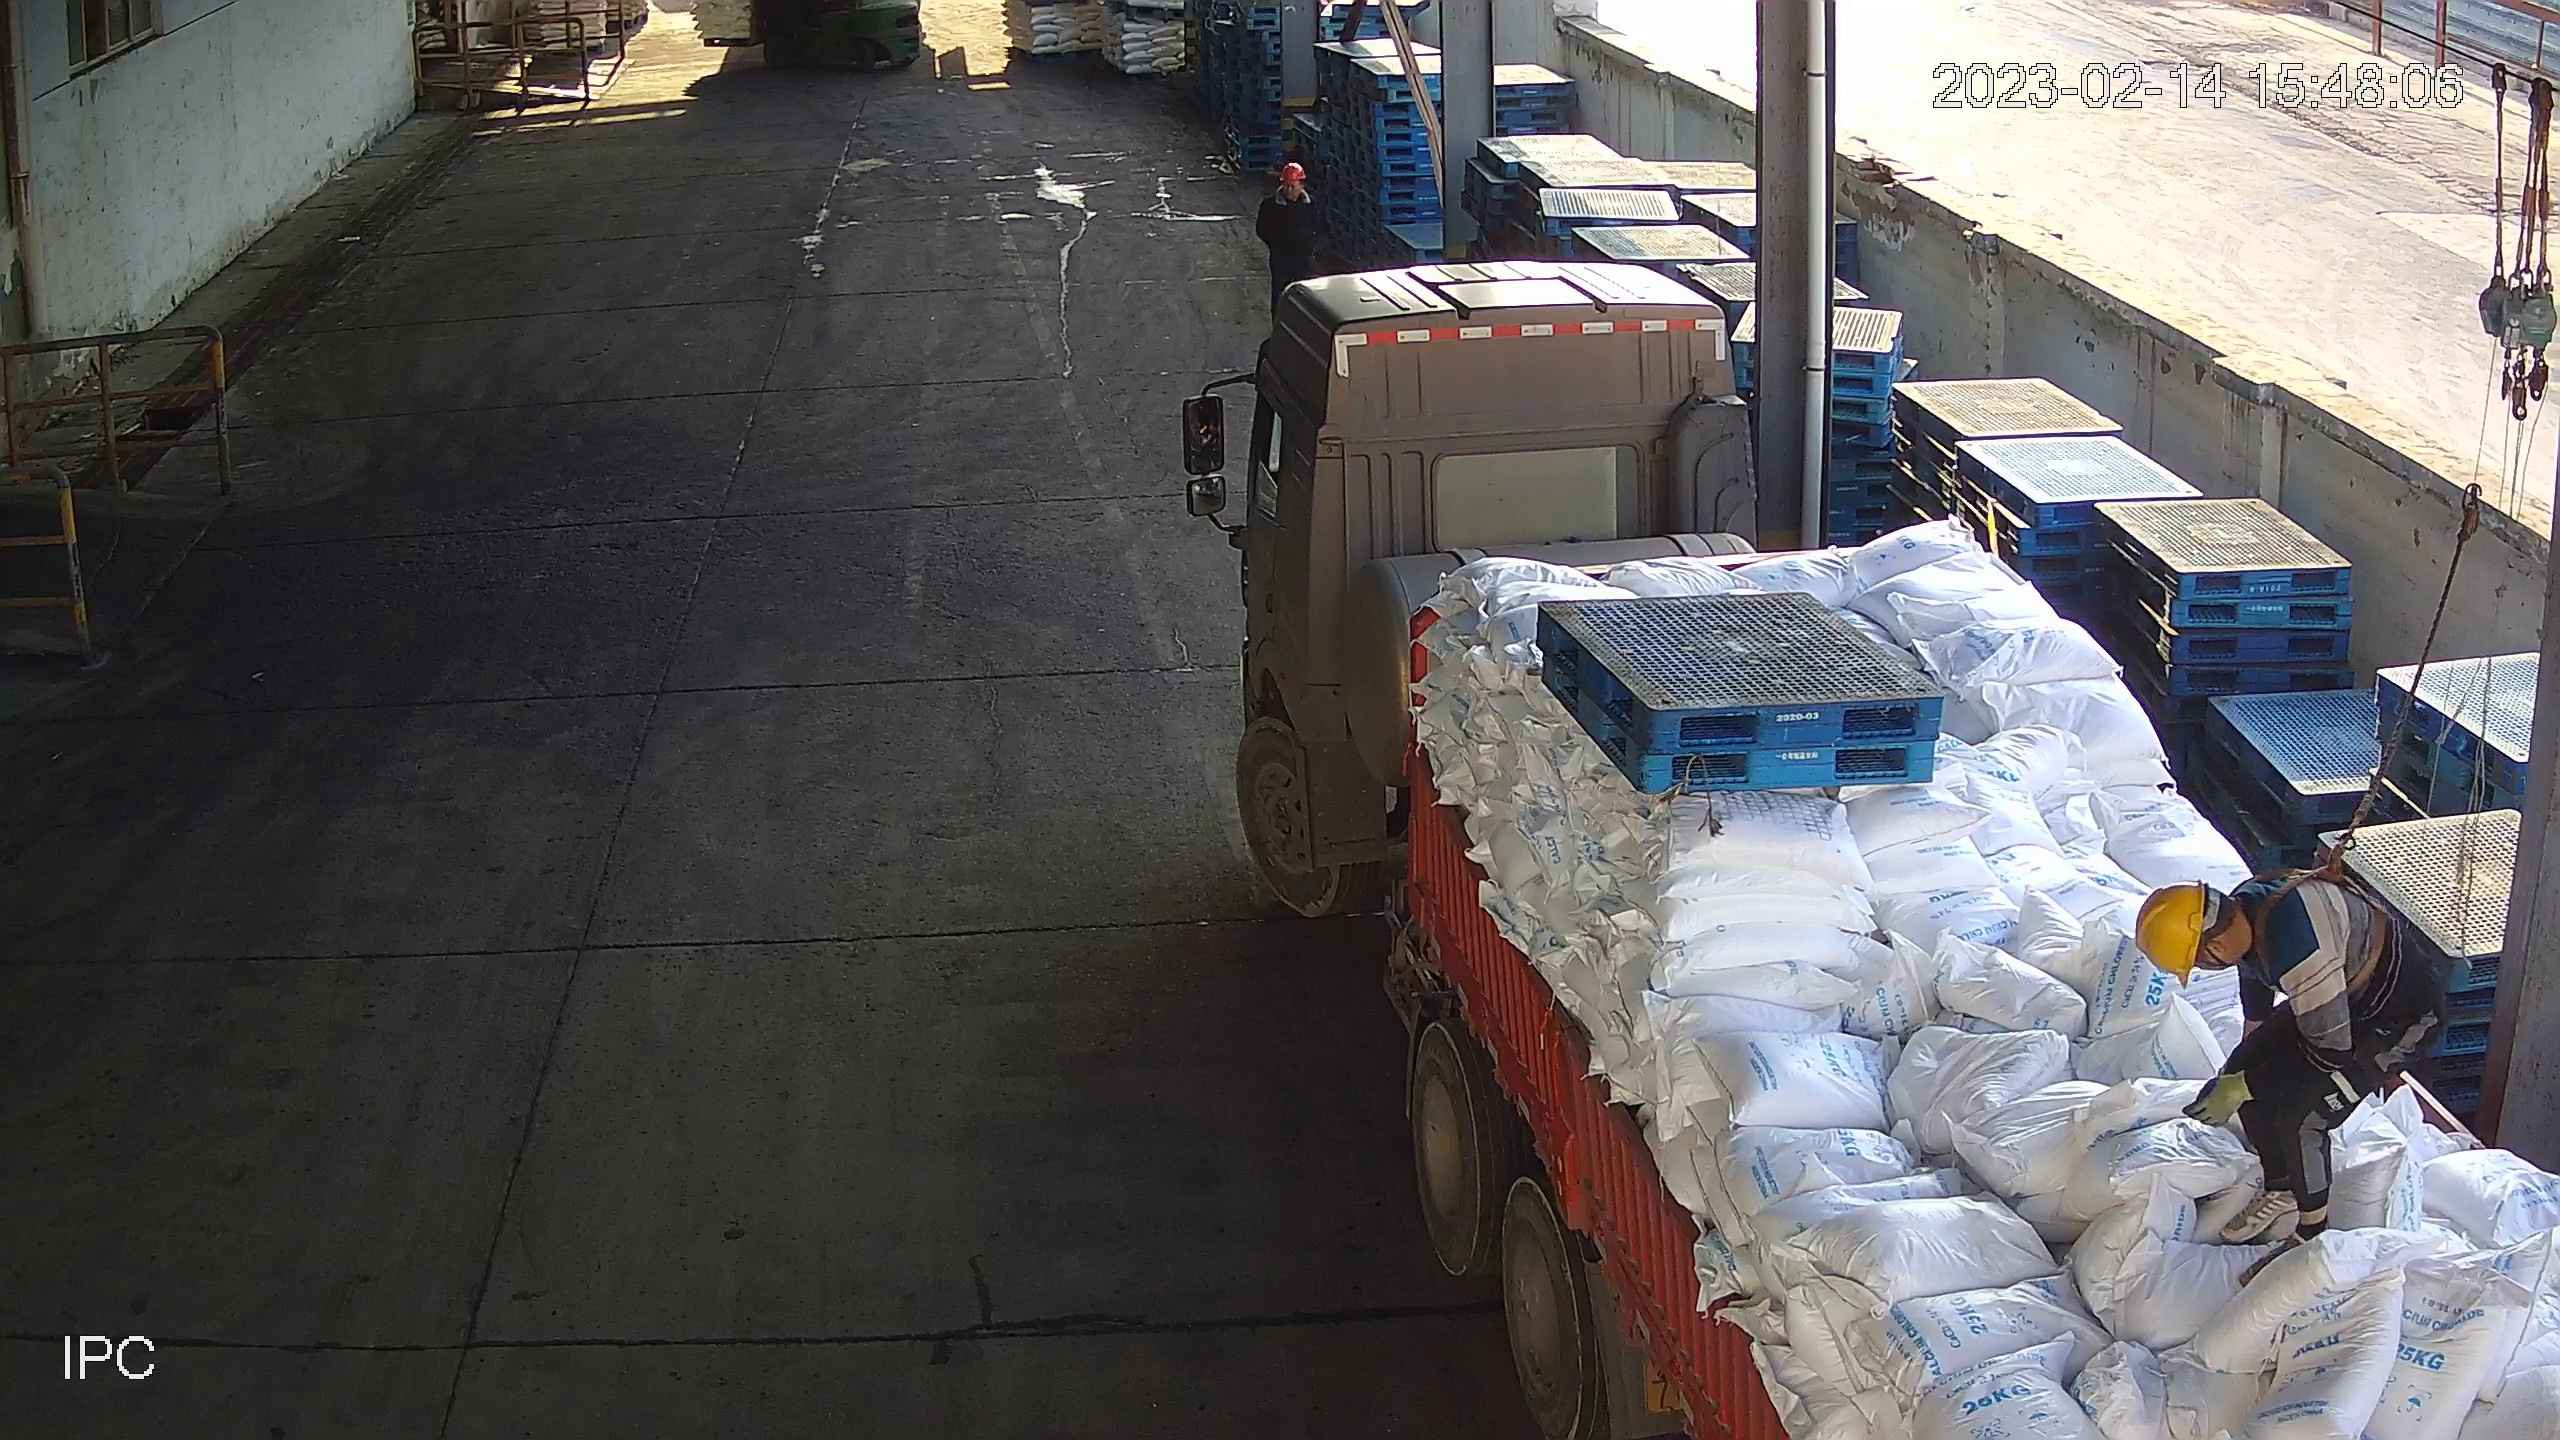belt: (2250, 849, 2397, 1004)
head: (2128, 877, 2356, 1018), (1265, 159, 1318, 226)
helmet: (2134, 881, 2205, 987), (1278, 161, 1307, 182)
people: (2116, 857, 2450, 1253), (1254, 158, 1318, 288)
truck: (1199, 269, 2560, 1440)
